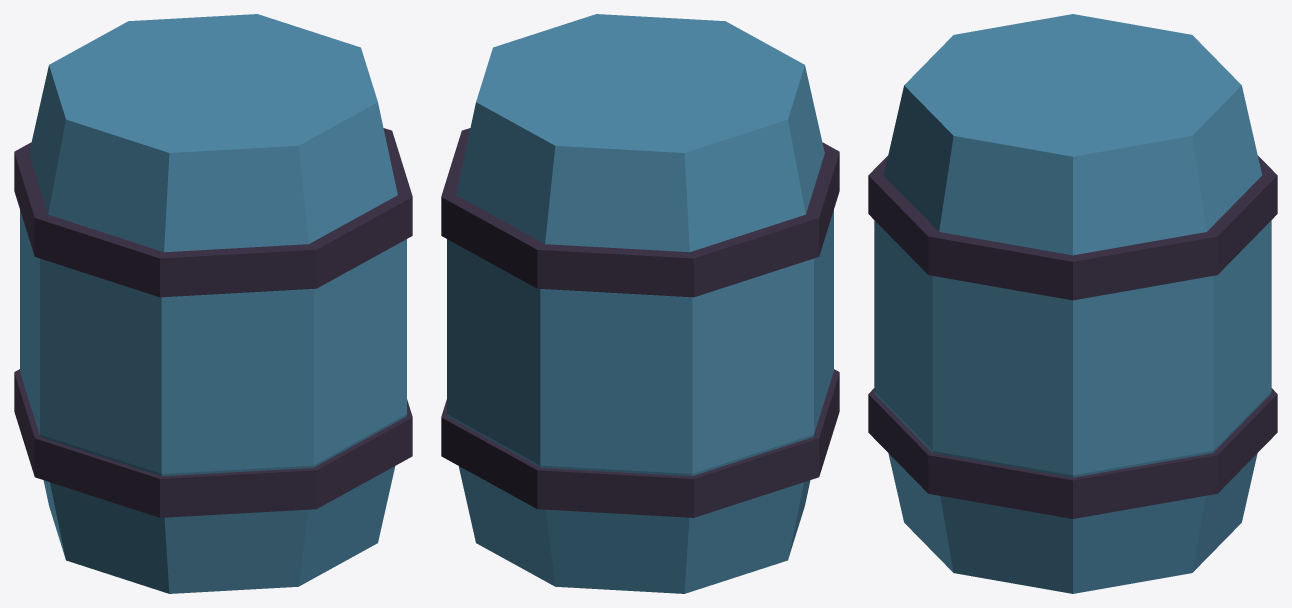
Rendered from barrel.glb.
The picture shows the model from 3 angles, left to right: view 1: azimuth 30°, elevation 25°; view 2: azimuth 150°, elevation 25°; view 3: azimuth 270°, elevation 25°; orthographic projection.
Visible parts, largest first — view 1: factory-barrel; view 2: factory-barrel; view 3: factory-barrel.
Part boxes in pixels (x1,y1,x2,y2): factory-barrel: (14, 14, 412, 593); factory-barrel: (441, 14, 839, 593); factory-barrel: (868, 14, 1277, 593).
Bounding box in the file's own units: 0.2884 × 0.34 × 0.2884.
